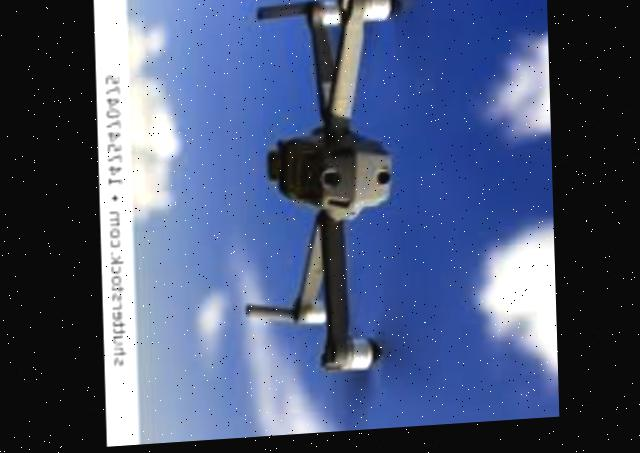drone: (237, 0, 453, 441)
